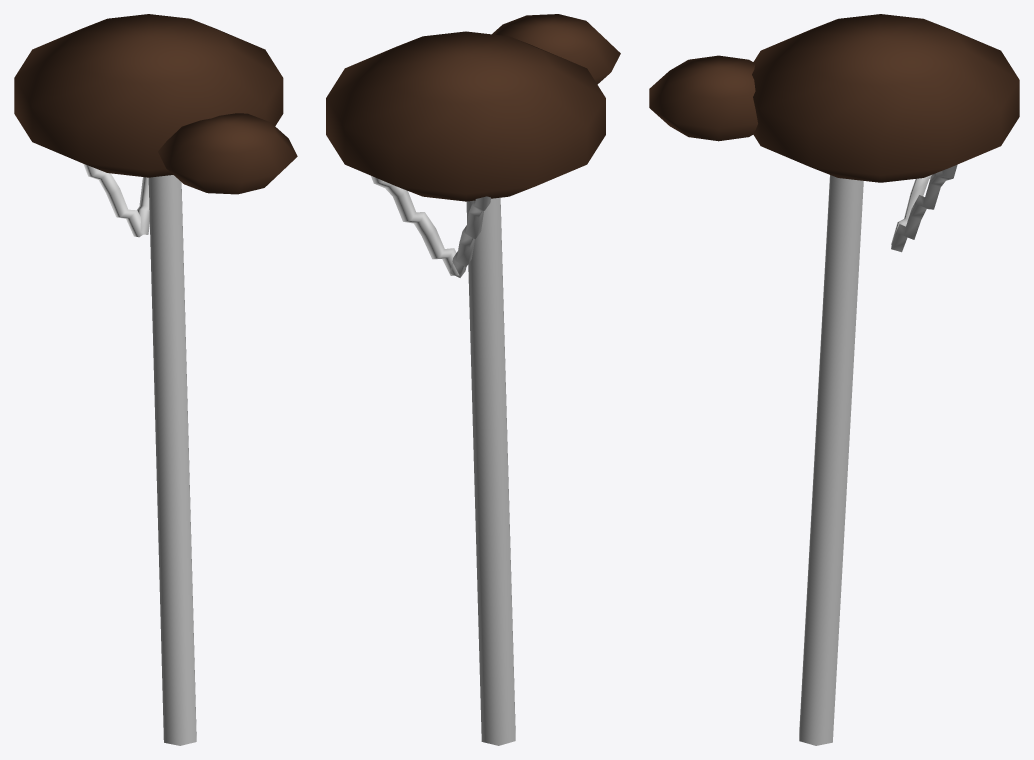
The model's file is bicycle_chibi_saddle.glb.
3 renders of one model, left to right at view 1: azimuth 30°, elevation 25°; view 2: azimuth 150°, elevation 25°; view 3: azimuth 270°, elevation 25°, orthographic. The views are drawn at different scales.
Parts seen in each view (by area): view 1: bicycle_chibi_saddle; view 2: bicycle_chibi_saddle; view 3: bicycle_chibi_saddle.
Part boxes in pixels (<box>): bicycle_chibi_saddle: <box>14,14,297,745</box>; bicycle_chibi_saddle: <box>326,14,620,745</box>; bicycle_chibi_saddle: <box>649,14,1019,745</box>.
Bounding box in the file's own units: 0.1712 × 0.476 × 0.2284.
